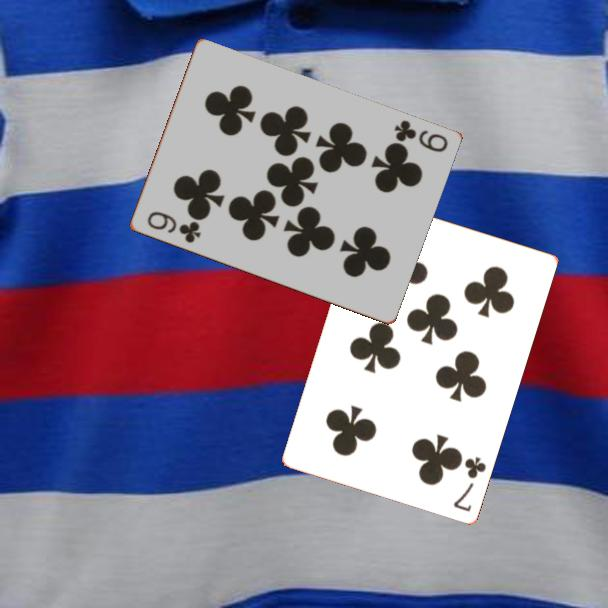c07: (450, 453, 489, 514)
c09: (390, 116, 450, 155), (143, 208, 203, 246)
